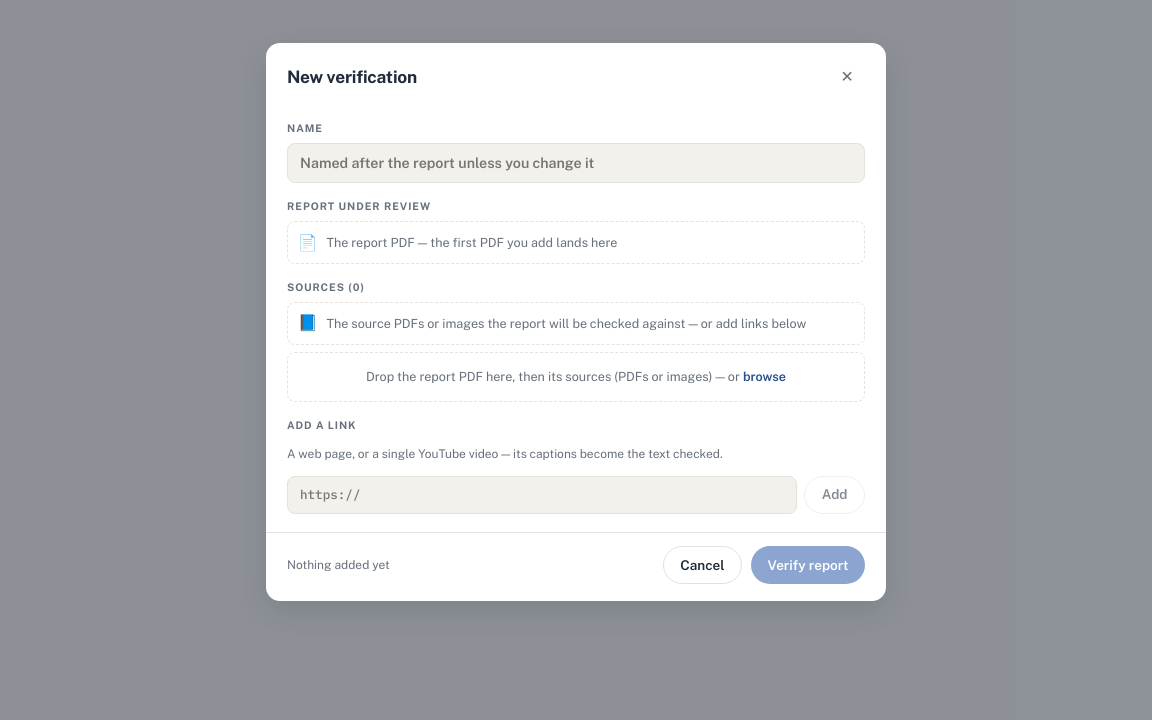
Scenario: UploadDialog › rejects a YouTube link that isn't a single video
Type "https://www.youtube.com/channel/UCabcdefghijklmnopqrstuv" into the field labelled "Add a link". click: (542, 495)
box: x1=287 y1=476 x2=797 y2=514
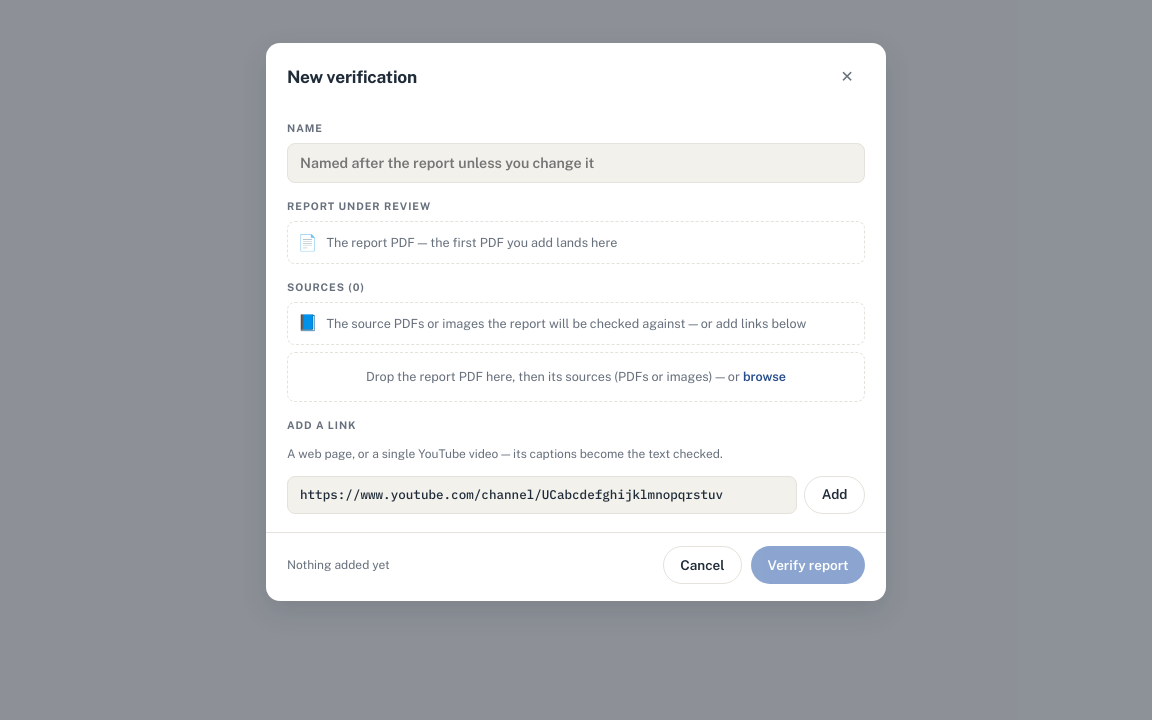
Click the button "Add". click: (835, 495)
box: x1=804 y1=476 x2=865 y2=514
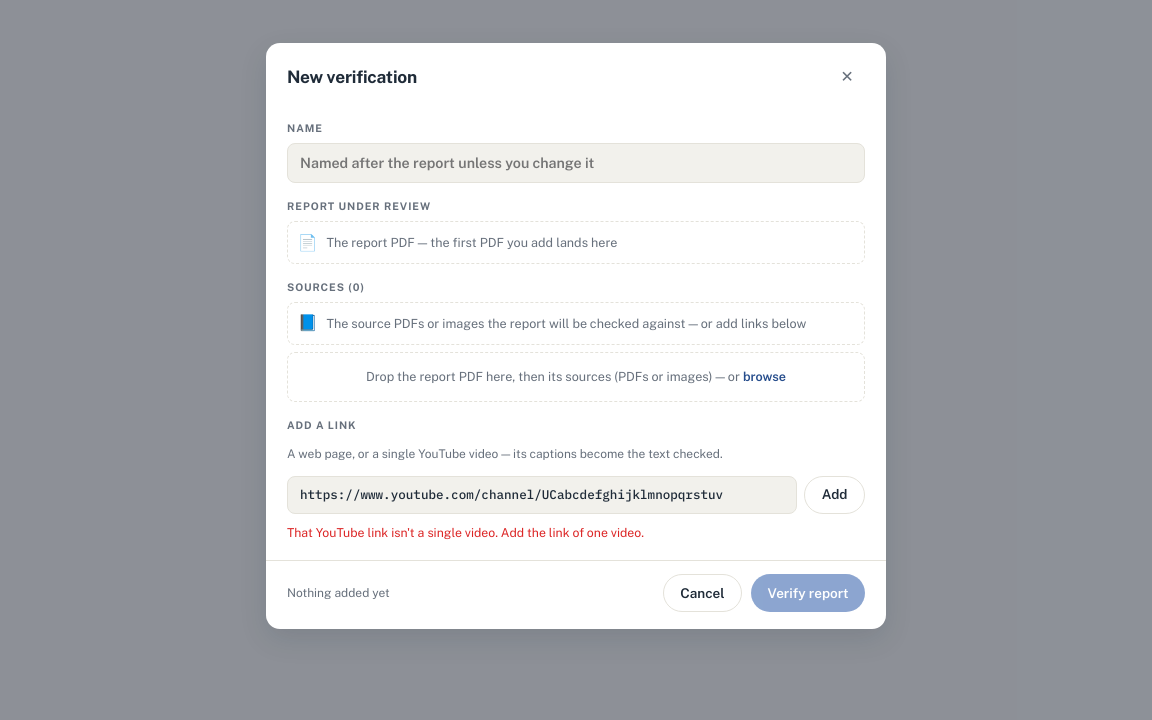
Expected: the text "Sources (0)" is shown, x1=287 y1=281 x2=365 y2=293
Expected: the text "That YouTube link isn't a single video. Add the link of one video." is shown, x1=287 y1=525 x2=644 y2=540
